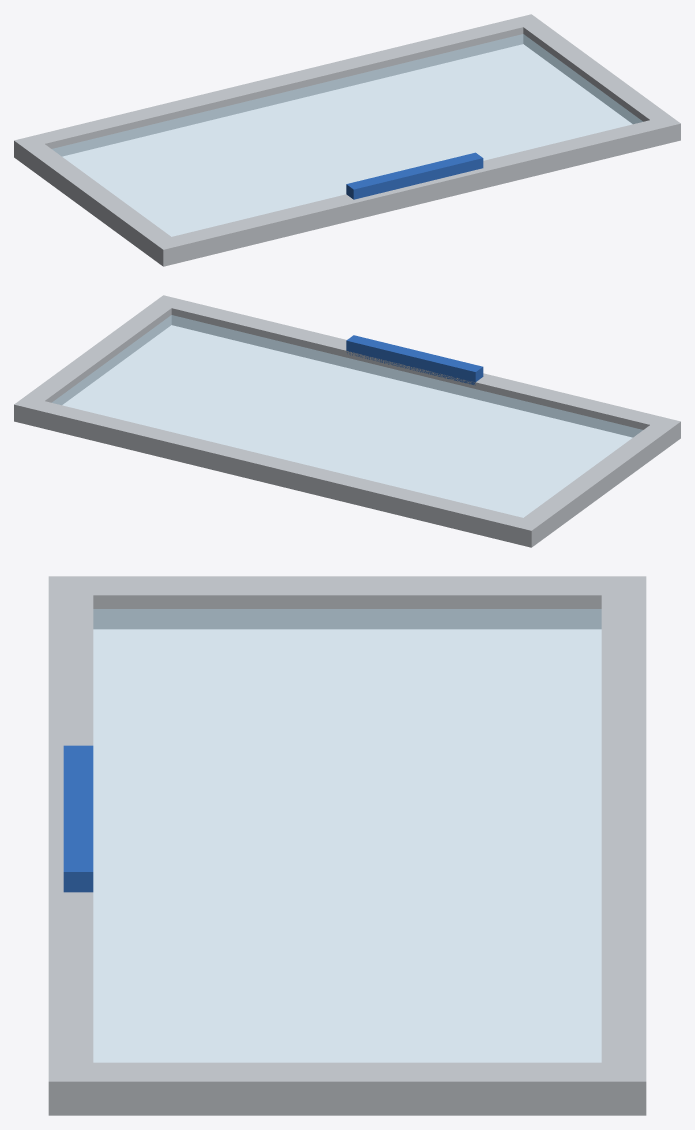
The model's file is freezer_lid.glb.
3 renders of one model, top to bottom at view 1: azimuth 30°, elevation 25°; view 2: azimuth 150°, elevation 25°; view 3: azimuth 270°, elevation 25°, orthographic. The views are drawn at different scales.
Visible parts, largest first — view 1: glass_lid_glass, frame_lid_frame, handle_lid_handle; view 2: glass_lid_glass, frame_lid_frame, handle_lid_handle; view 3: glass_lid_glass, frame_lid_frame, handle_lid_handle.
Boxes of the visible parts, x1,y1,x2,y2 form: glass_lid_glass: [52, 34, 642, 236]; frame_lid_frame: [14, 14, 680, 266]; handle_lid_handle: [346, 152, 483, 199]; glass_lid_glass: [52, 315, 642, 517]; frame_lid_frame: [14, 295, 680, 547]; handle_lid_handle: [346, 335, 483, 385]; glass_lid_glass: [93, 609, 601, 1062]; frame_lid_frame: [48, 576, 646, 1115]; handle_lid_handle: [63, 745, 93, 892].
Size of the model in its own units: 1.6 by 0.08 by 0.8.
